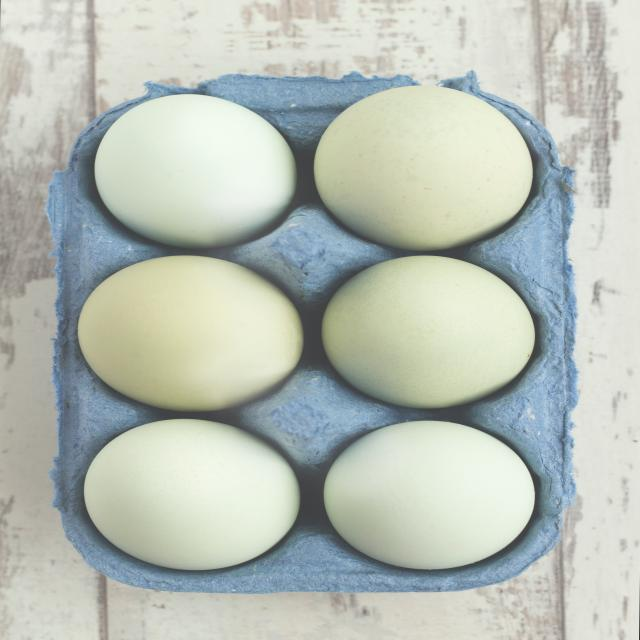egg: (253, 398, 552, 589), (67, 382, 329, 592), (296, 71, 552, 264), (62, 248, 316, 436), (329, 228, 531, 410), (86, 81, 310, 245)
